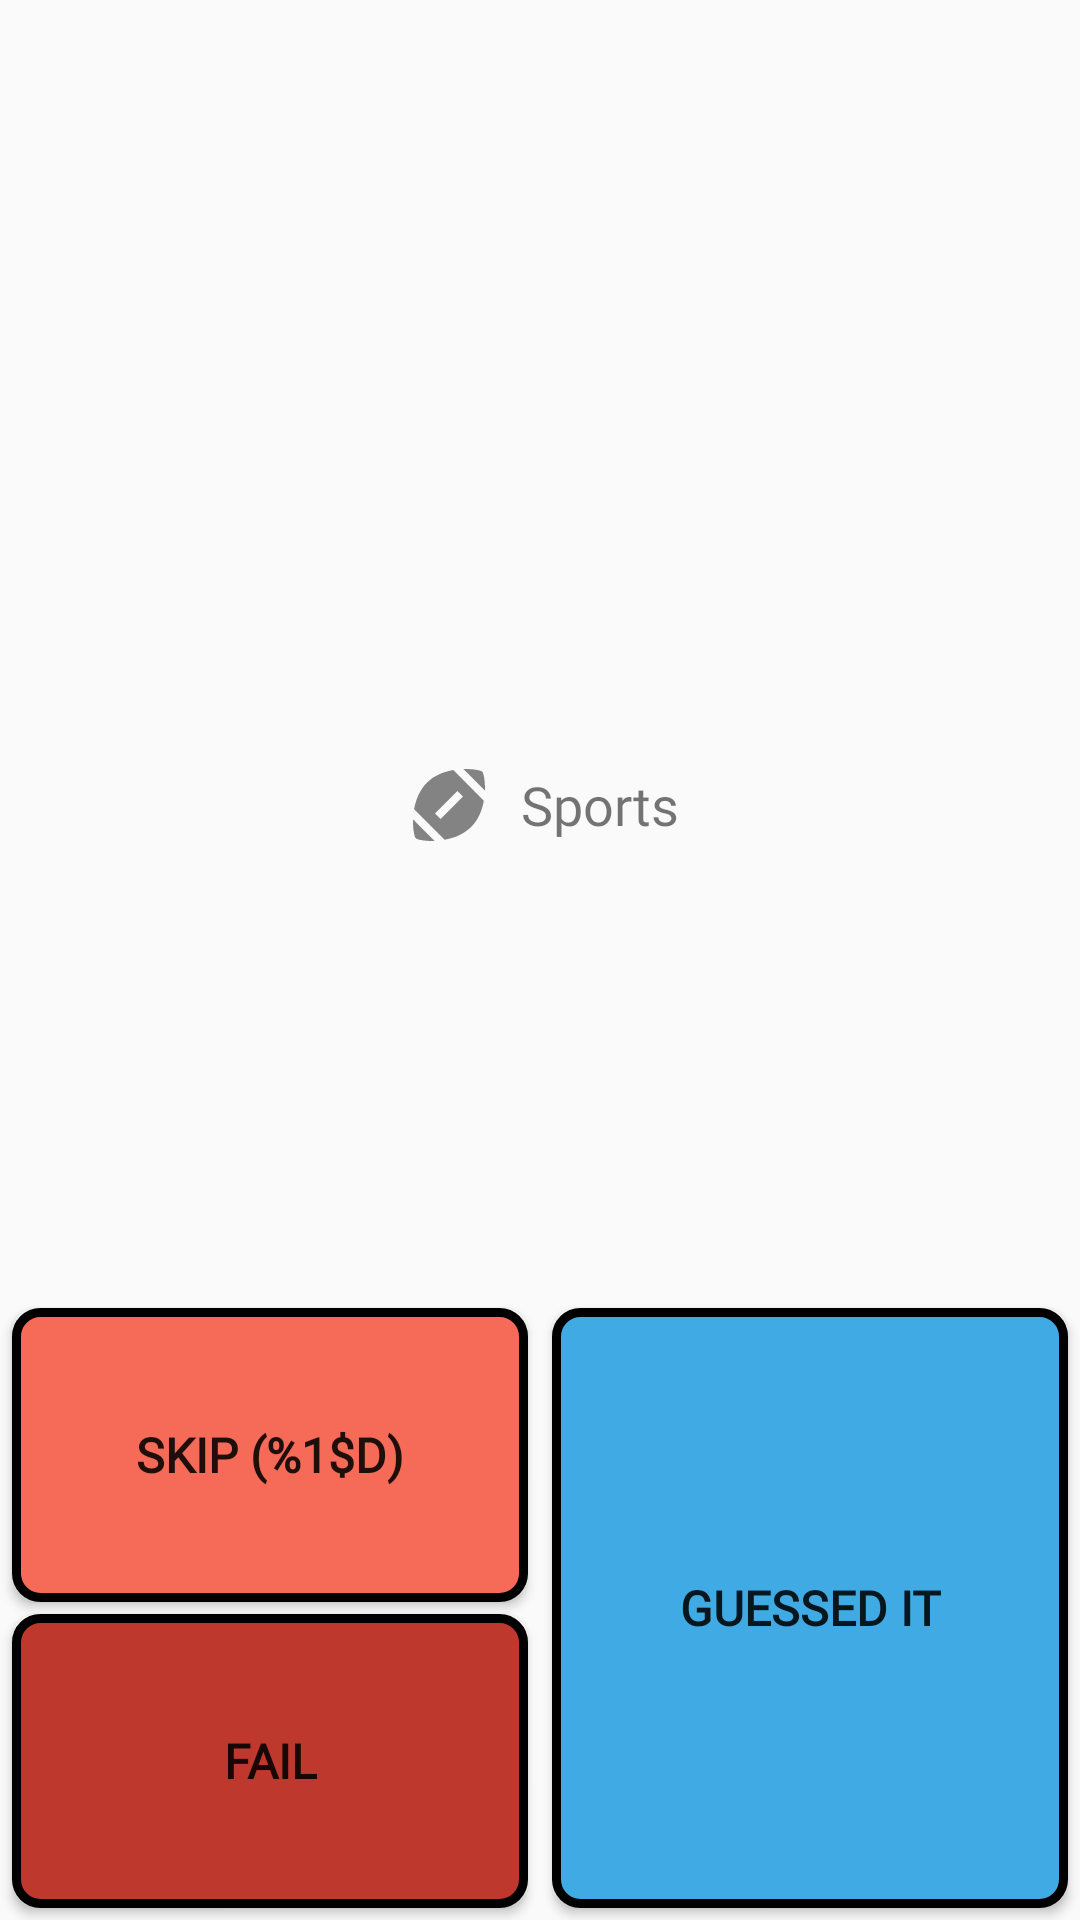

Screen size 1080 × 1920. Icon name, then its box in pixels as (x1, y1, x2, y2):
football: (413, 769, 485, 841)
